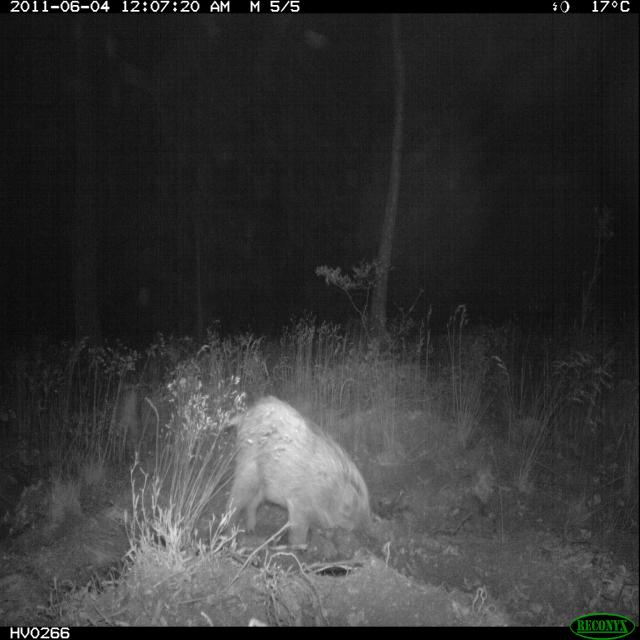boar: (177, 335, 417, 589)
